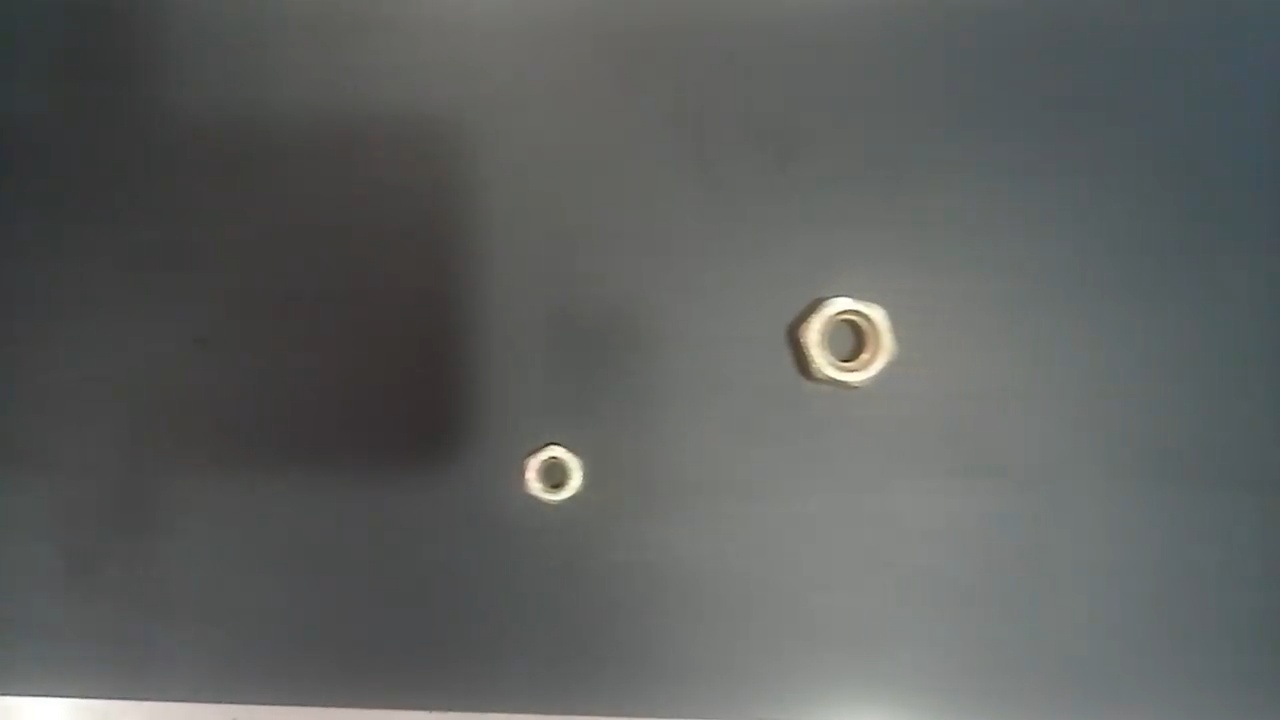Bolt: (789, 292, 904, 387), (520, 437, 590, 506)
